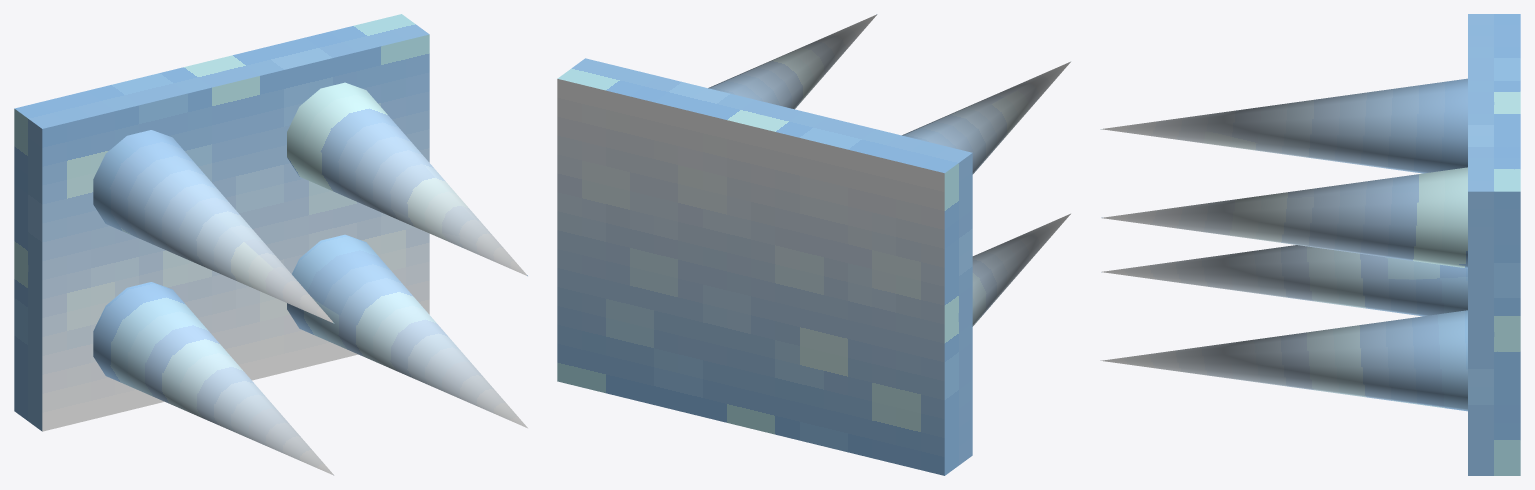
File: ice-spikes.glb
3 renders of one model, left to right at view 1: azimuth 30°, elevation 25°; view 2: azimuth 150°, elevation 25°; view 3: azimuth 270°, elevation 25°, orthographic. The views are drawn at different scales.
Parts seen in each view (by area): view 1: ice-box, ice-points; view 2: ice-box, ice-points; view 3: ice-points, ice-box.
Part boxes in pixels (x1,y1,x2,y2): ice-box: (14,14,429,431); ice-points: (93,82,527,475); ice-box: (557,58,972,475); ice-points: (708,14,1070,326); ice-points: (1100,78,1467,411); ice-box: (1468,14,1520,475).
Size of the model in its own units: 1 by 0.7467 by 1.
1 material, 1 textured.
